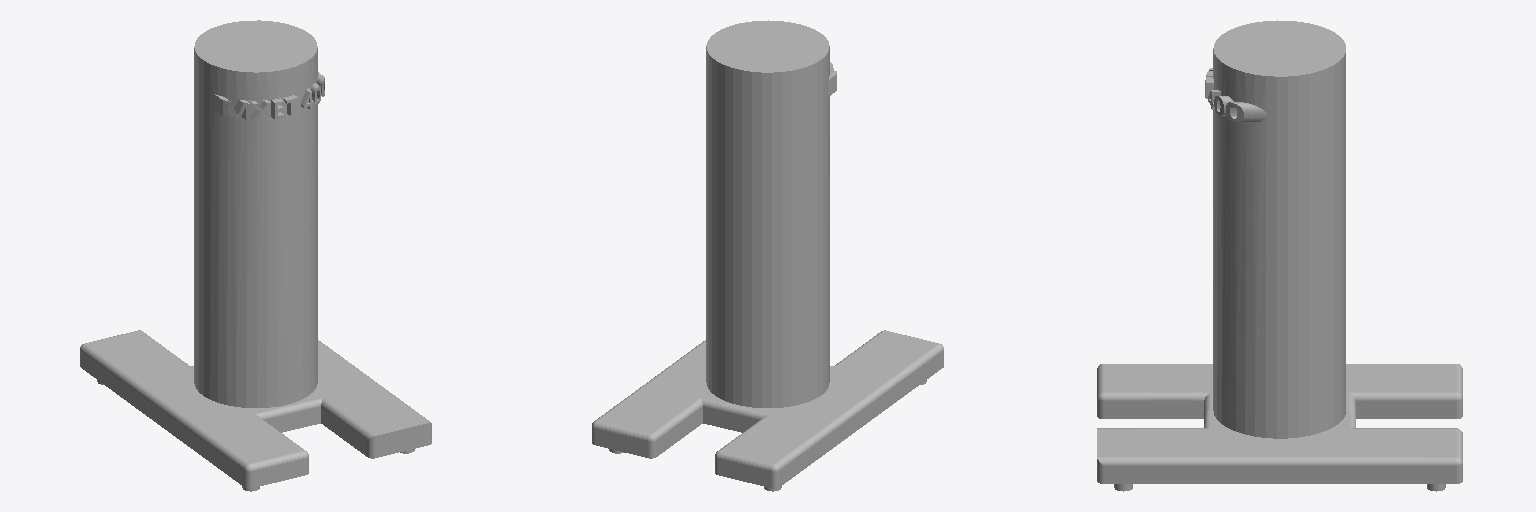
The robot description file, URDF, robot "ur5_stand_model2":
<?xml version="1.0" encoding="utf-8"?>
<!-- =================================================================================== -->
<!-- |    This document was autogenerated by xacro from ur5_stand.xacro                | -->
<!-- |    EDITING THIS FILE BY HAND IS NOT RECOMMENDED                                 | -->
<!-- =================================================================================== -->
<!-- <xacro:include filename="$(find labs_400)/urdf/materials.xacro" /> -->
<robot name="ur5_stand_model2">
  <material name="blue">
    <color rgba= "0 0 1 1"/>
  </material>
  <material name="grey">
    <color rgba="0.75 0.75 0.75 1"/>
  </material>

  <!-- ... -->


  <link name="world"/>
  <joint name="joint_fix" type="fixed">
    <parent link="world"/>
    <child link="stand"/>
  </joint>
  <!-- Create a fixed joint with a parameterized name. -->
  <link name="stand">
    <!--2-->
    <visual>
      <origin rpy="0 0 0" xyz="0 0 0"/>
      <geometry>
        <mesh filename="package://mxet_ros2_labs/meshes/lab6_meshes/ur5_stand_model2.stl" scale="0.0019 0.0019 0.0019"/>
      </geometry>
      <material name="grey"/>
    </visual>
    <collision>
      <origin rpy="0 0 0" xyz="0 0 0"/>
      <geometry>
        <mesh filename="package://mxet_ros2_labs/meshes/lab6_meshes/ur5_stand_model2.stl" scale="0.001 0.001 0.001"/>
      </geometry>
    </collision>
    <inertial>
      <origin rpy="1.570796 0 0" xyz="0 0 0"/>
      <mass value="5.0"/>
      <inertia ixx="0.001" ixy="0.0" ixz="0.0" iyy="0.001" iyz="0.0" izz="0.001"/>
    </inertial>
  </link>
  <gazebo reference="stand">
    <!-- <material>Gazebo/Blue</material> -->
    <!-- <mu1>10</mu1>
    <mu2>10</mu2> -->
    <material>Gazebo/DarkGrey</material>
  </gazebo>
</robot>

--- What the picture shows (computed from the rendered views, not written in the file) ---
Views: 3 orthographic renders of the robot side by side, from view 1: azimuth 30°, elevation 25°; view 2: azimuth 150°, elevation 25°; view 3: azimuth 270°, elevation 25°.
Robot: ur5_stand_model2 — 2 links, 1 joints (1 fixed); root link world; default pose: every joint at zero.
Links seen in each view (by area): view 1: stand; view 2: stand; view 3: stand.
Boxes of the visible links, x1,y1,x2,y2 form: stand: [80, 20, 431, 491]; stand: [592, 20, 943, 491]; stand: [1097, 20, 1462, 491].
Bounding box of the posed robot: 0.3325 × 0.5225 × 0.627 m (x, y, z).
Meshes: 1 distinct files referenced, 1 mesh visuals loaded (1 binary STL).
